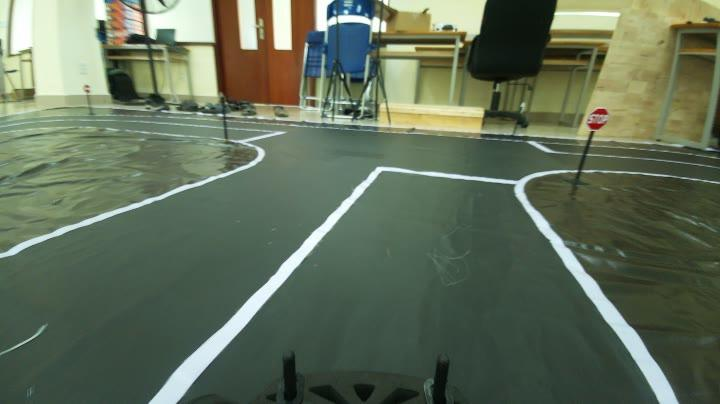stop: (582, 104, 612, 136)
